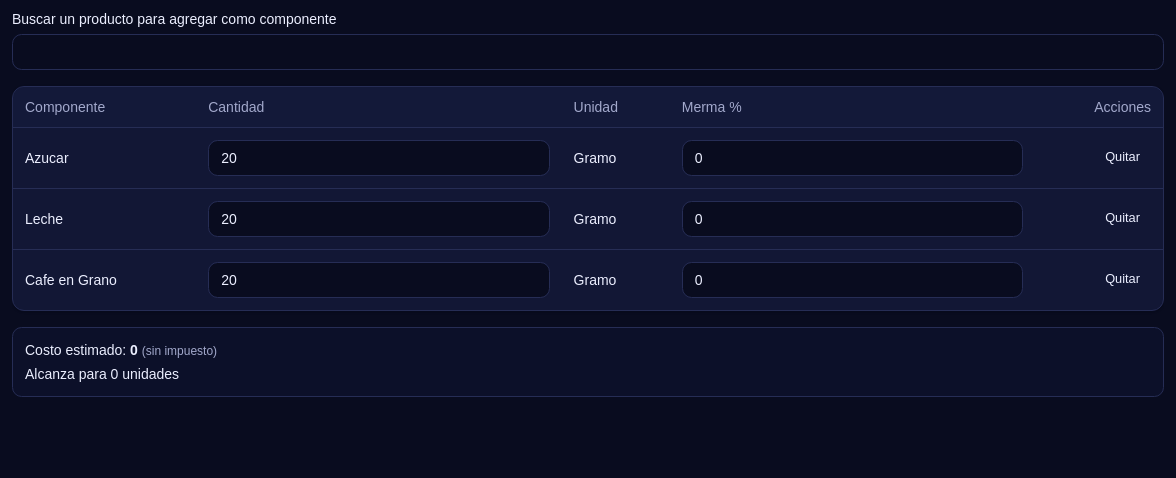
Test case: CompositionTab — el error se pinta sobre la fila › el mensaje aparece bajo el campo de LA fila que falló, no arriba de todo
In the number field named "Cantidad de «Cafe en Grano»": (379, 280) [208,262,550,298], type "5"
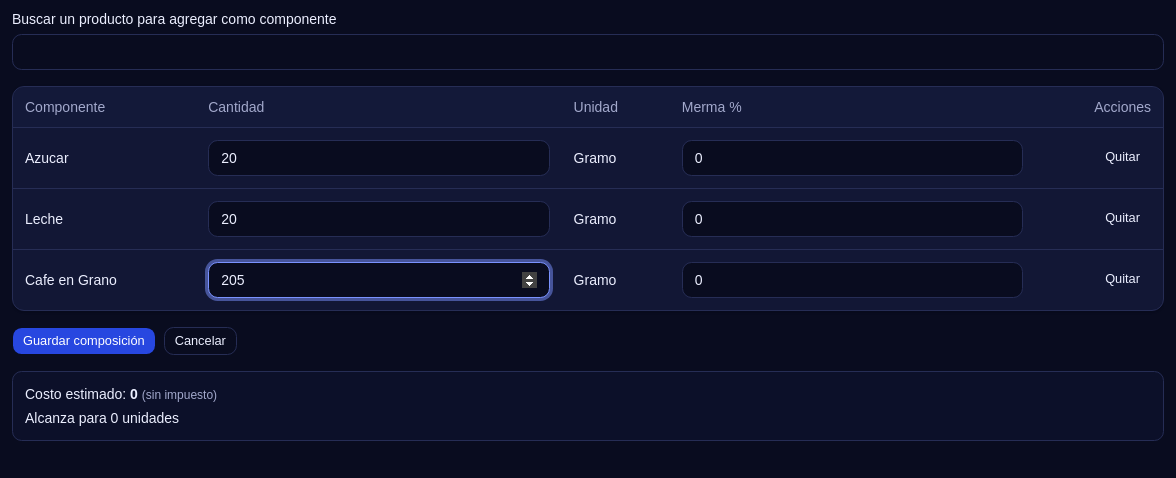
Click the button "Guardar composición": (84, 340) [12,326,156,354]
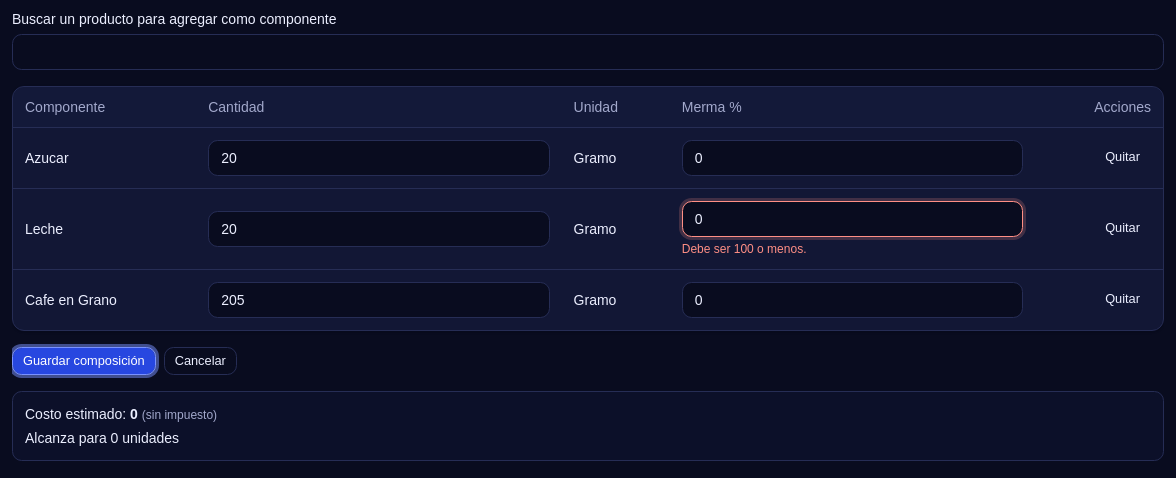
Now the text "Debe ser 100 o menos." is shown, box [682,242,806,256]
